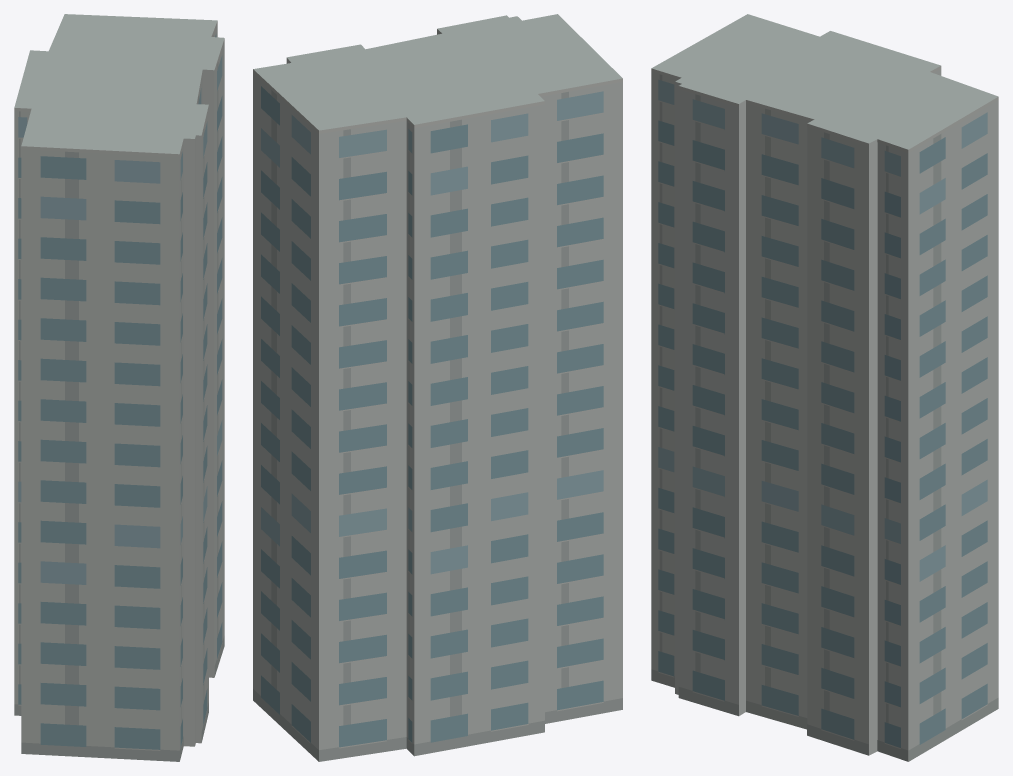
File: residential-c48ffa07-e478-4c48-80e6-76a26d8336aa.glb
3 renders of one model, left to right at view 1: azimuth 30°, elevation 25°; view 2: azimuth 150°, elevation 25°; view 3: azimuth 270°, elevation 25°, orthographic. The views are drawn at different scales.
Visible parts, largest first — view 1: residential-c48ffa07-e478-4c48-80e6-76a26d8336aa.tmp; view 2: residential-c48ffa07-e478-4c48-80e6-76a26d8336aa.tmp; view 3: residential-c48ffa07-e478-4c48-80e6-76a26d8336aa.tmp.
Boxes of the visible parts, bbox=[...] form: residential-c48ffa07-e478-4c48-80e6-76a26d8336aa.tmp: bbox=[14, 14, 224, 761]; residential-c48ffa07-e478-4c48-80e6-76a26d8336aa.tmp: bbox=[253, 14, 622, 761]; residential-c48ffa07-e478-4c48-80e6-76a26d8336aa.tmp: bbox=[651, 14, 998, 761].
Size of the model in its own units: 21.41 by 45 by 23.15.
